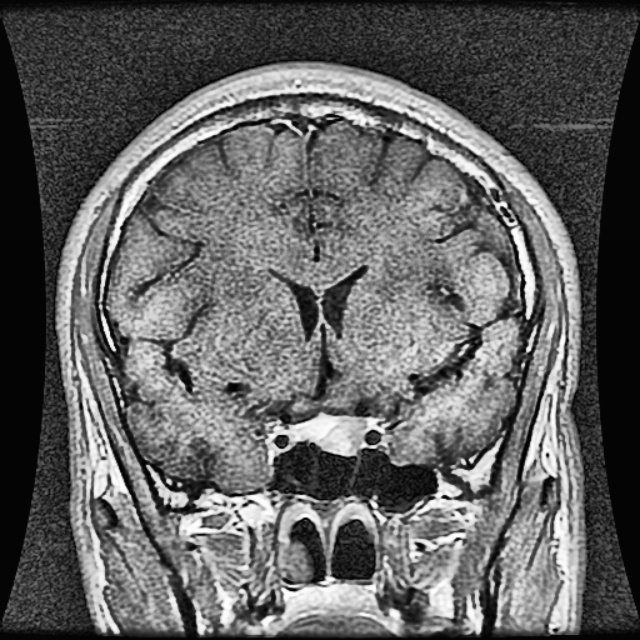Pituitary: (285, 413, 373, 453)
